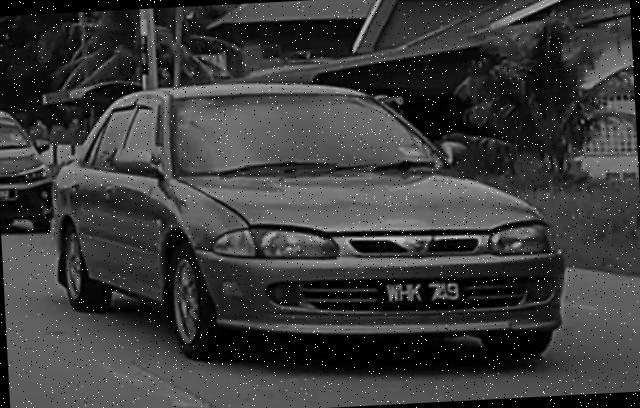License_Plate: (378, 277, 463, 310)
car: (44, 66, 571, 384)
